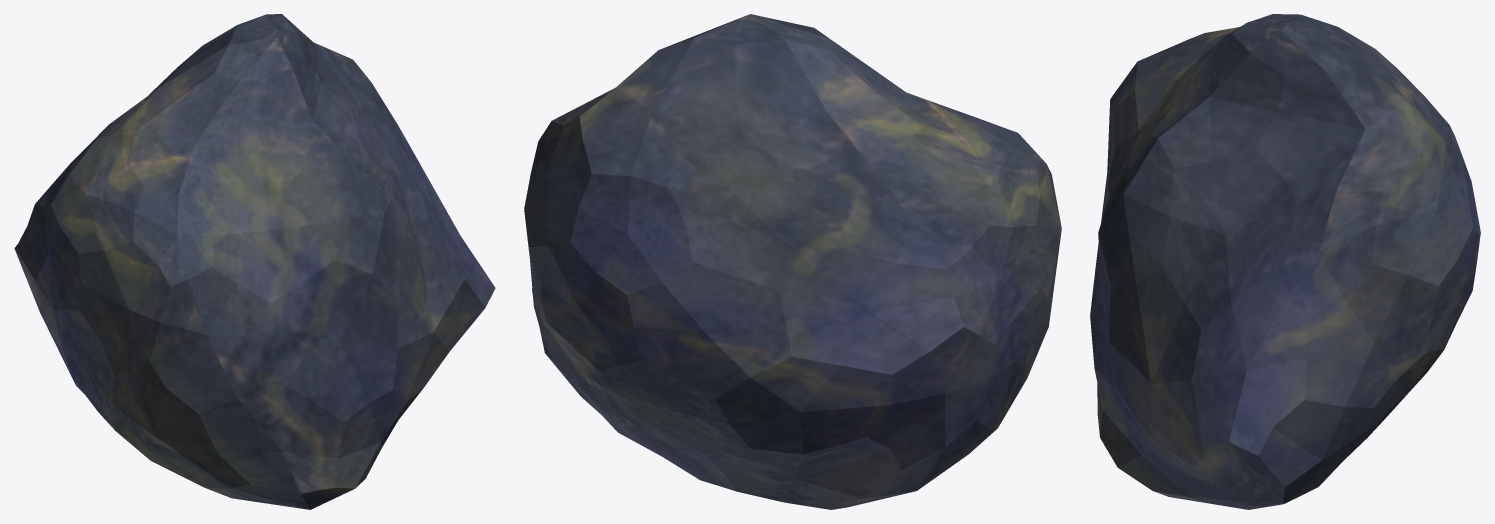
Rendered from MS-Boulder.fbx.
3 views of the same model, side by side, from view 1: azimuth 30°, elevation 25°; view 2: azimuth 150°, elevation 25°; view 3: azimuth 270°, elevation 25° (orthographic). The views are drawn at different scales.
Parts seen in each view (by area): view 1: Icosphere; view 2: Icosphere; view 3: Icosphere.
Part boxes in pixels (x1,y1,x2,y2): Icosphere: [14, 14, 495, 509]; Icosphere: [524, 14, 1061, 509]; Icosphere: [1090, 14, 1480, 509].
Size of the model in its own units: 942 by 902 by 691.
